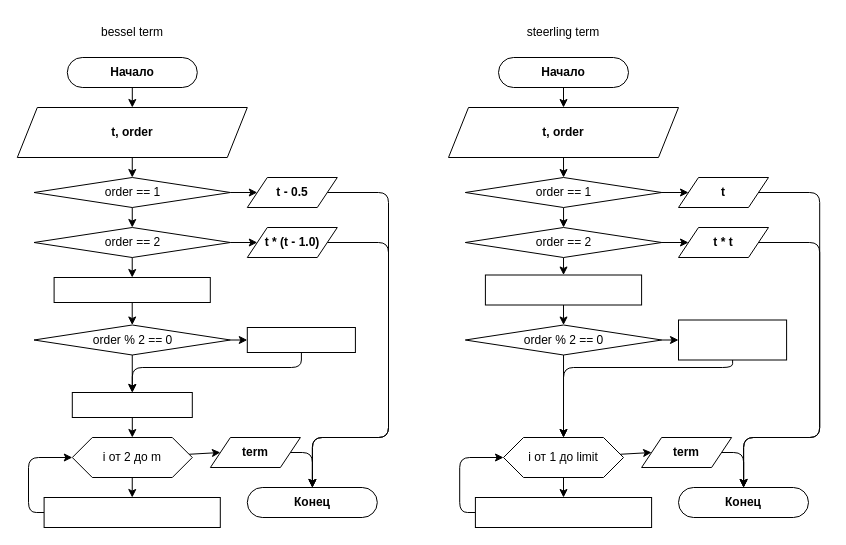
Image size: 846x545. Some labels were removed from this diagram. Each missing label, with the box of its shape:
m = order / 2: (71, 392, 192, 418)
term = (t - 0.5) * t * (t - 1.0): (53, 276, 210, 302)
term = t * (t - 1.0): (246, 326, 355, 352)
term = t * t limit = order / 2 - 1: (678, 319, 787, 360)
term = t limit = (order - 1) / 2: (484, 274, 642, 305)
term = term * (t * t - (i * i)): (474, 496, 652, 528)
term = term * (t - i) * (t + i - 1.0): (43, 496, 220, 528)
